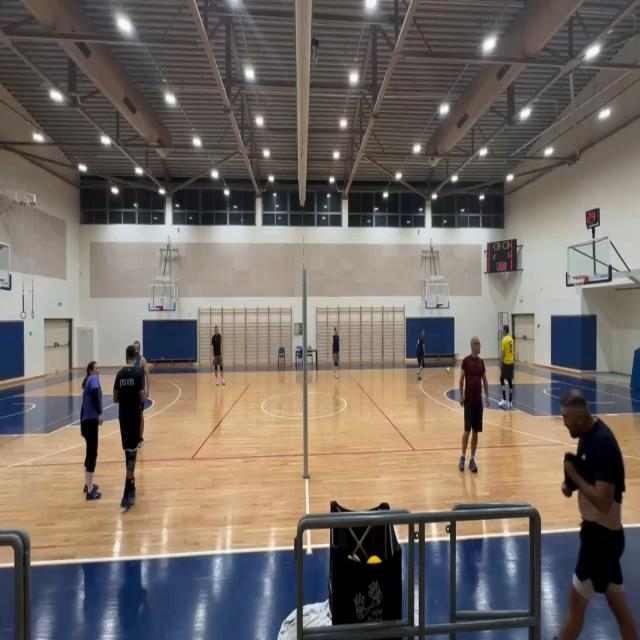volleyball: (446, 367, 450, 374)
